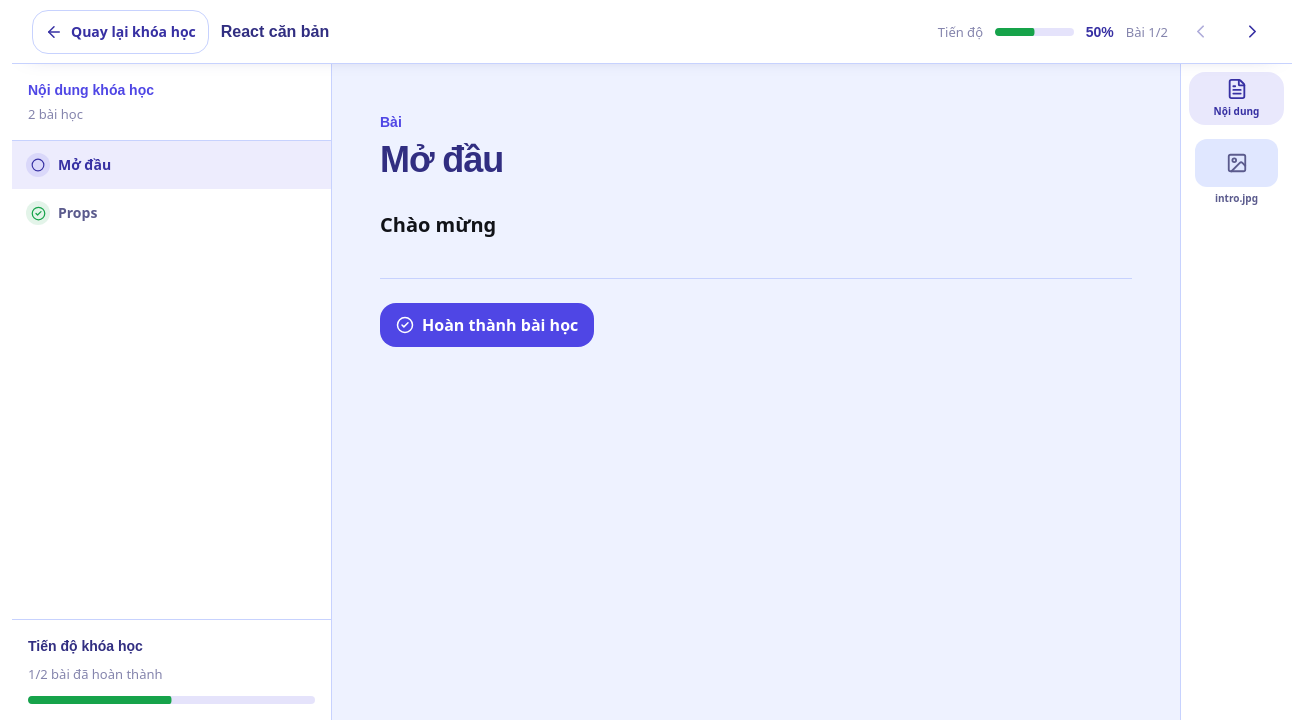
it: StudentLearningPage › keeps the lesson list and media rail fixed while selecting media and completing the current lesson
Expected: the heading "Chào mừng" is shown, [380,211,496,238]
Expected: the button named "Bài trước" is disabled, [1180,12,1220,52]
Step 1. Click the button named "Bài tiếp theo" → click(1252, 32), box [1232,12,1272,52]
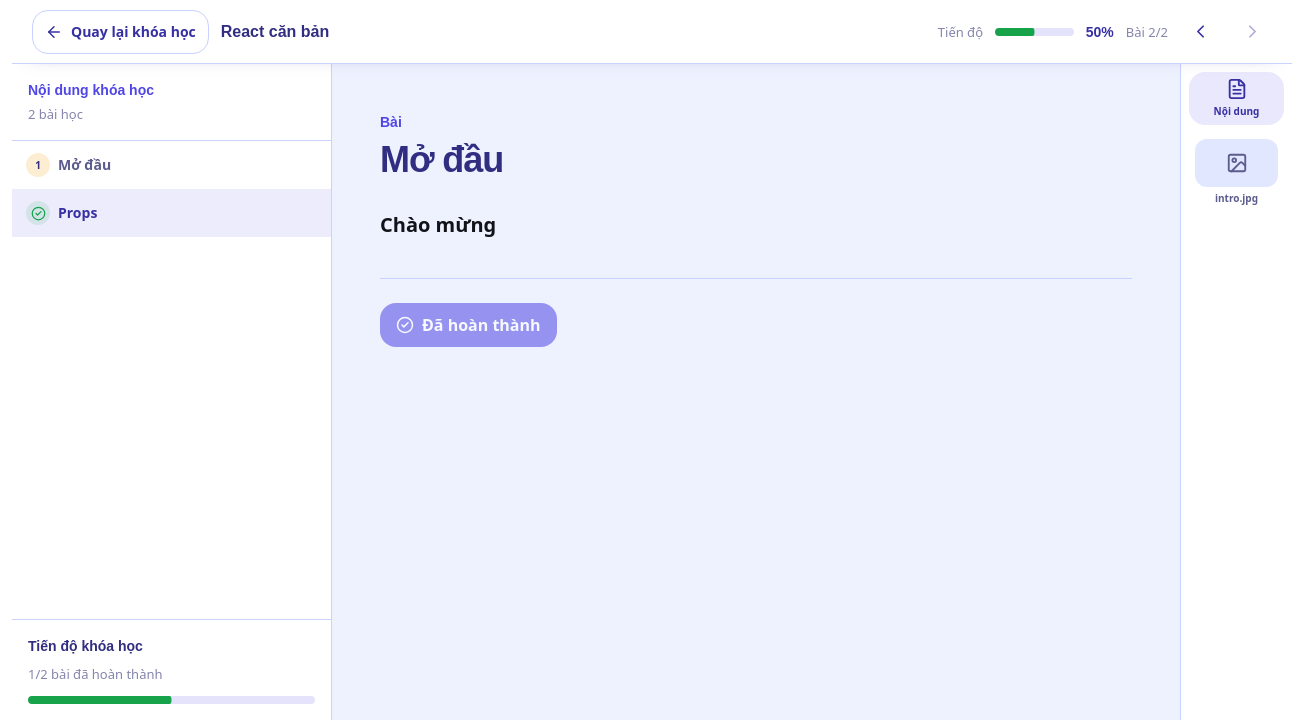
Now the text "Bài 2/2" is shown, box [1126,22,1168,42]
Step 2. Click the button named "Bài trước" → click(1200, 32), box [1180,12,1220,52]
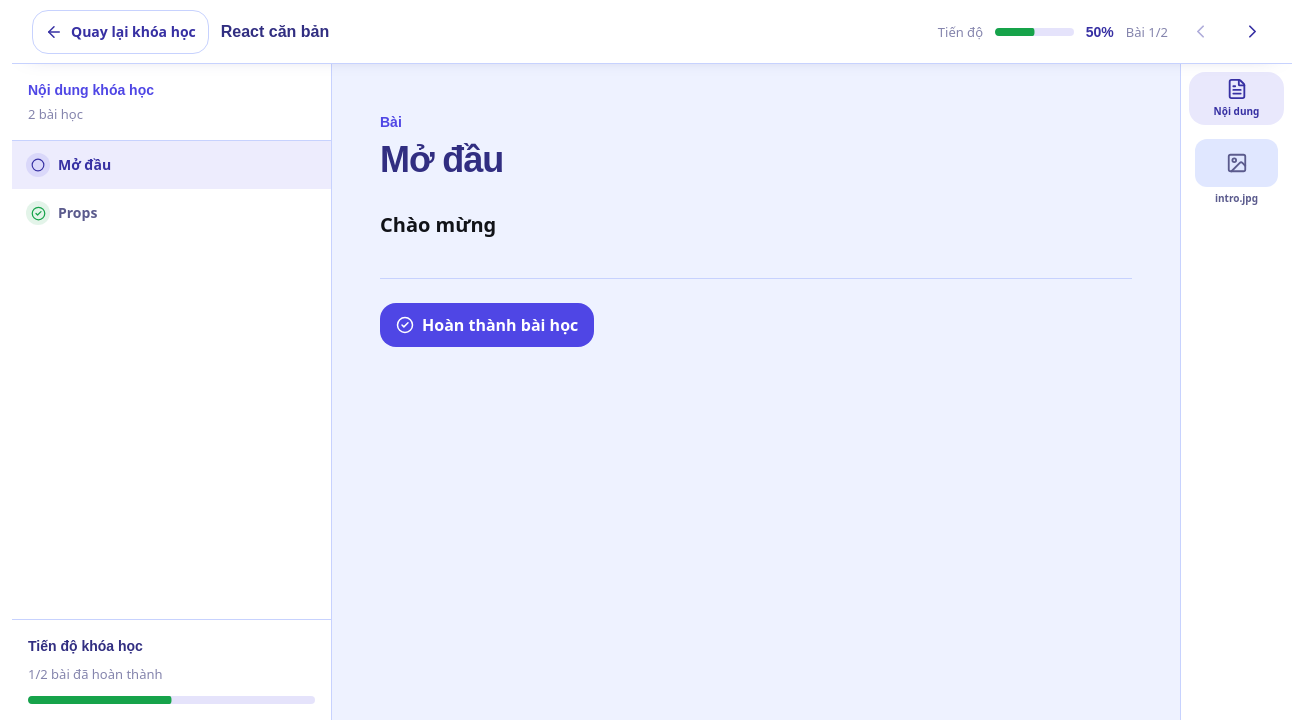
Now the text "Bài 1/2" is shown, box [1126,22,1168,42]
Step 3. Click the button with aria-label "Xem intro.jpg" → click(1236, 172), box [1189,133,1284,212]
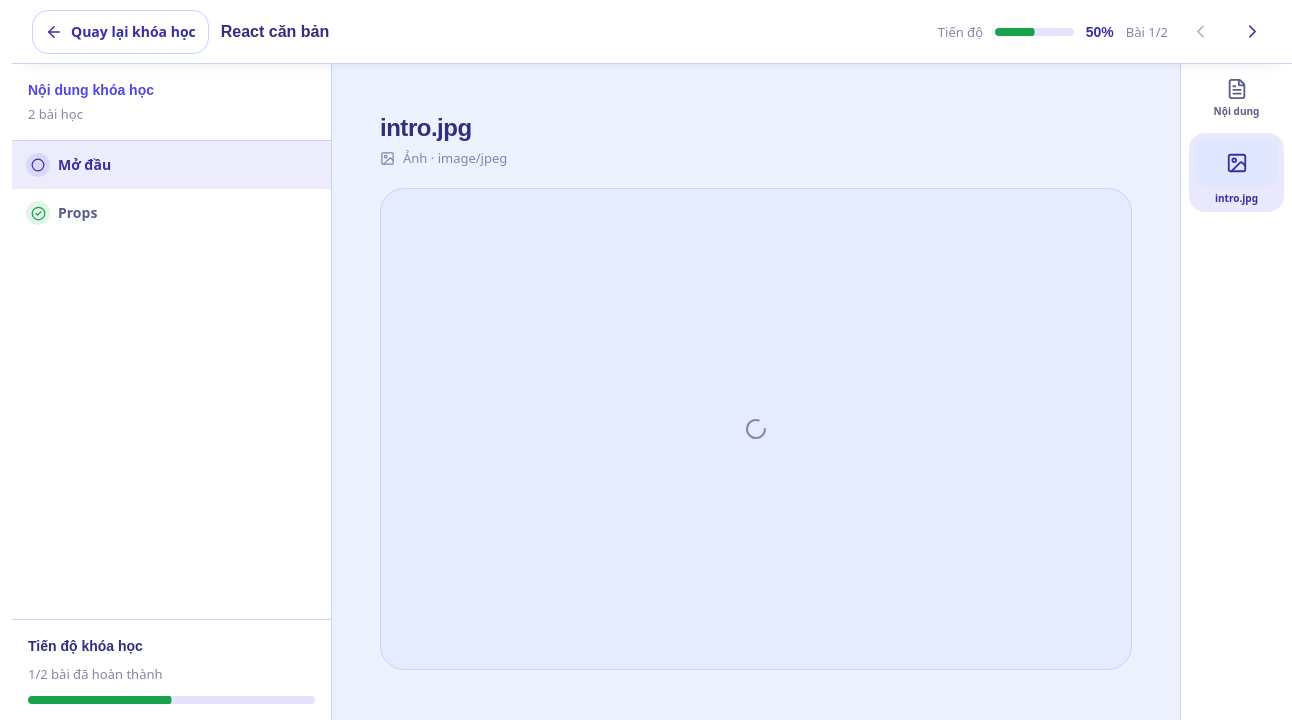
Now the heading "intro.jpg" is shown, box [380,114,472,141]
Step 4. Click the button "Nội dung" → click(1236, 98), box [1189,72,1284,125]
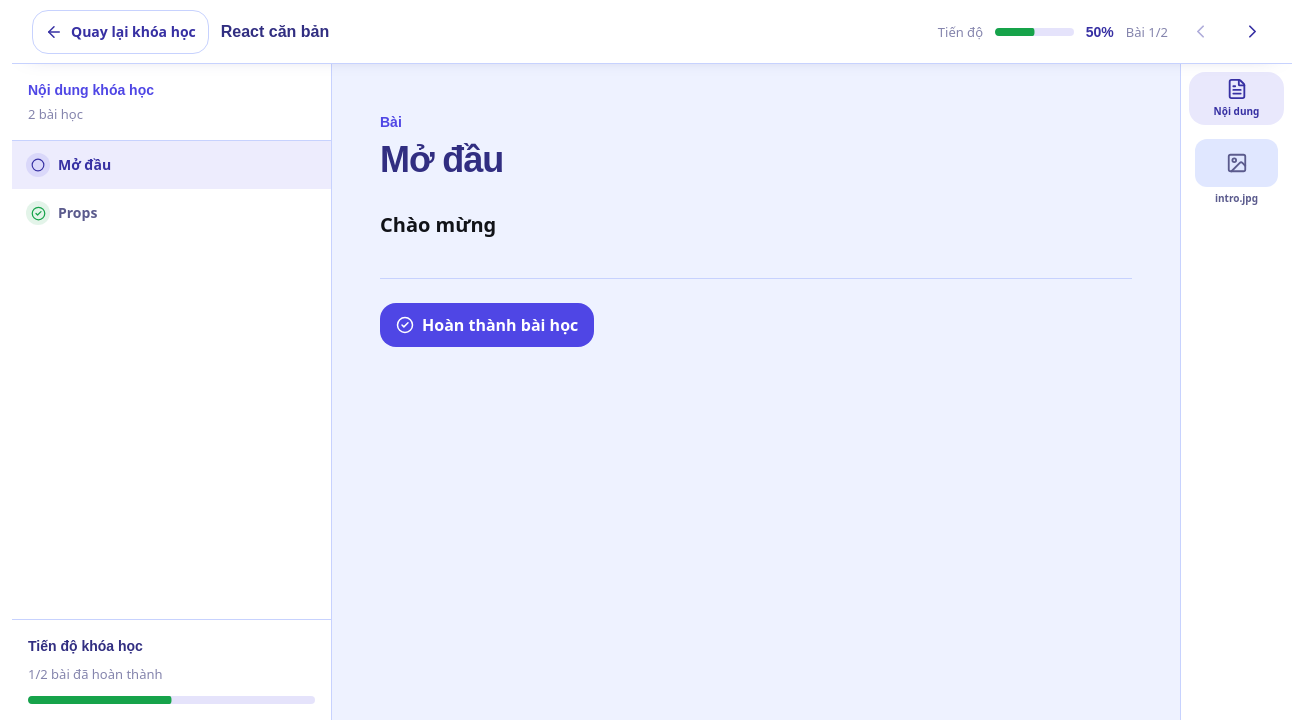
Step 5. Click the button "Hoàn thành bài học" → click(487, 325), box [380,303,594,347]
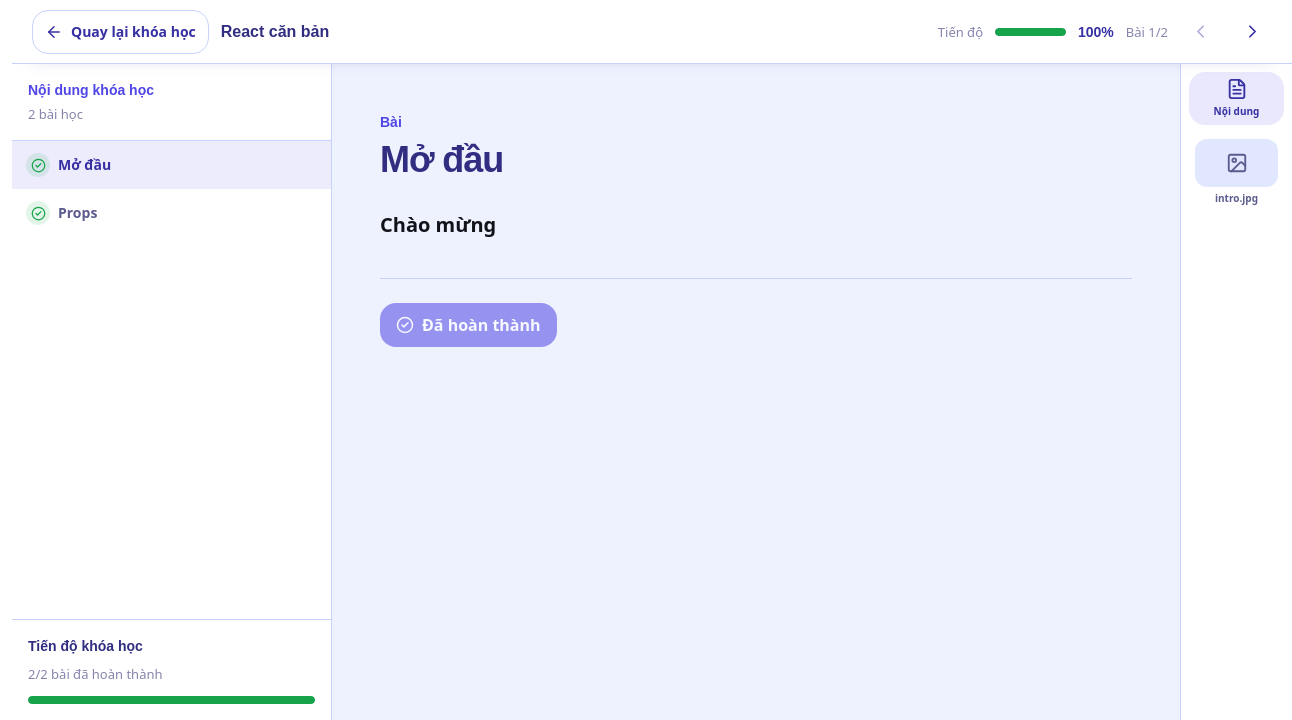
Now the button "Đã hoàn thành" is shown, box [380,303,557,347]
